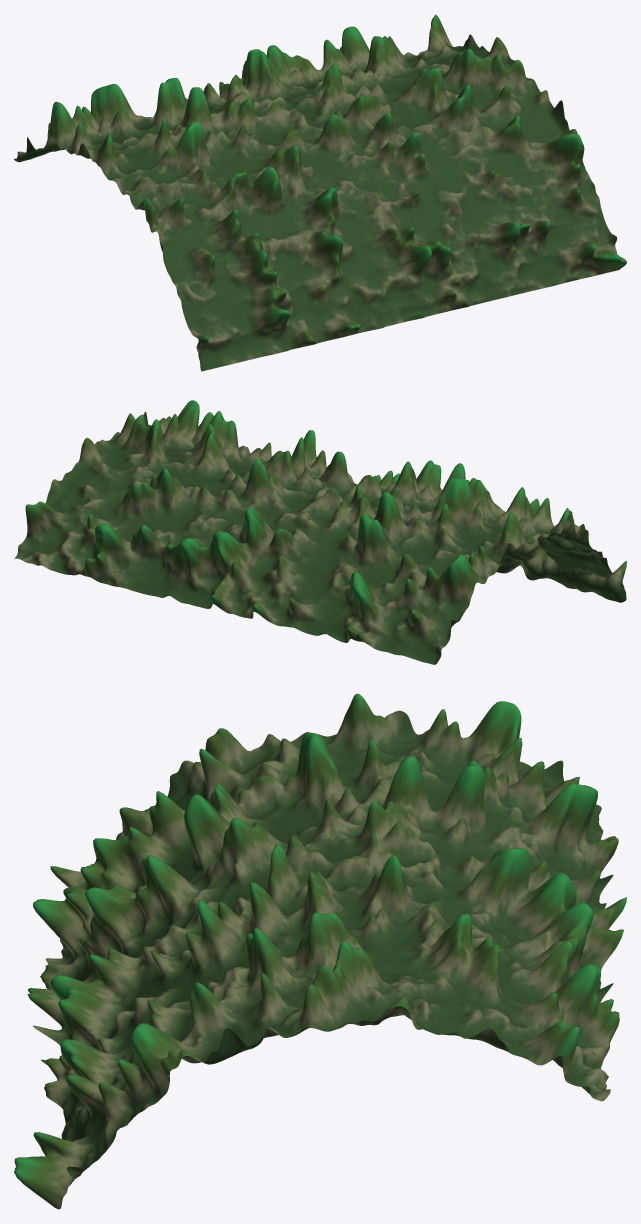
File: bgmountaintoeparyy.fbx
3 renders of one model, top to bottom at view 1: azimuth 30°, elevation 25°; view 2: azimuth 150°, elevation 25°; view 3: azimuth 270°, elevation 25°, orthographic. The views are drawn at different scales.
Visible parts, largest first — view 1: Plane; view 2: Plane; view 3: Plane.
Part boxes in pixels (left/top/right/bottom): Plane: left=14, top=14, right=626, bottom=371; Plane: left=14, top=400, right=626, bottom=664; Plane: left=14, top=693, right=626, bottom=1209.
Size of the model in its own units: 3980 by 1534 by 3492.
